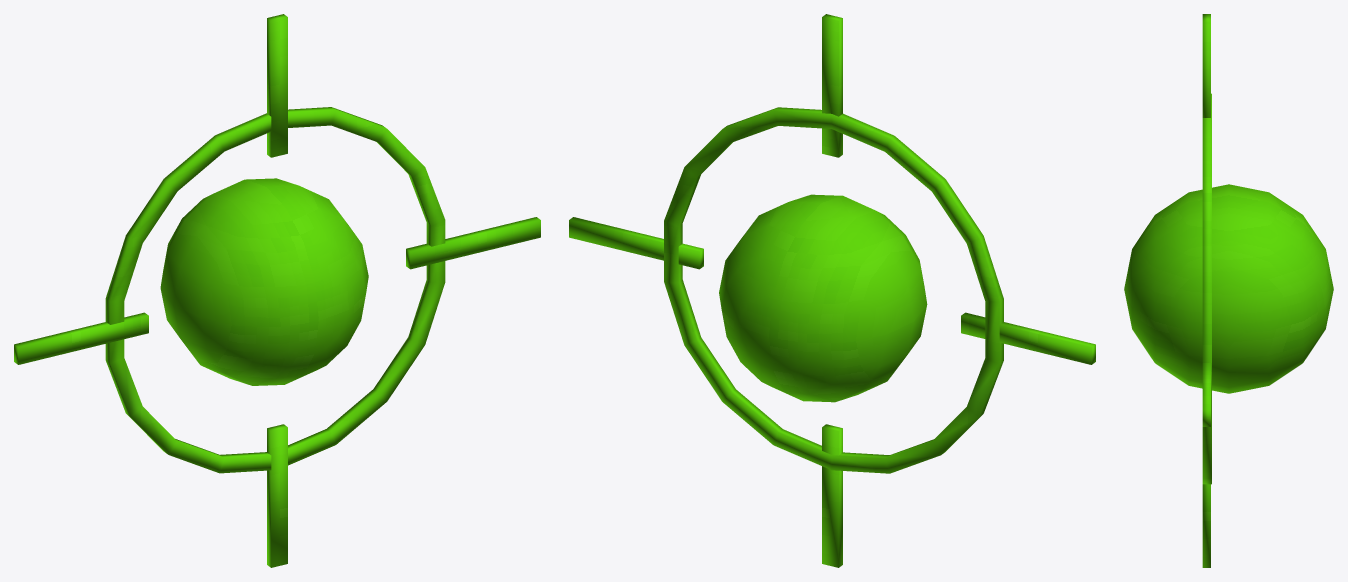
File: crosshair.obj
3 views of the same model, side by side, from view 1: azimuth 30°, elevation 25°; view 2: azimuth 150°, elevation 25°; view 3: azimuth 270°, elevation 25° (orthographic).
Visible parts, largest first — view 1: Sphere006; view 2: Sphere006; view 3: Sphere006.
Boxes of the visible parts, <box> form: Sphere006: <box>14,14,540,567</box>; Sphere006: <box>569,14,1095,567</box>; Sphere006: <box>1124,14,1333,567</box>.
Bounding box in the file's own units: 13.82 × 13.82 × 4.81.
Materials: 1 (1 with a texture image).
